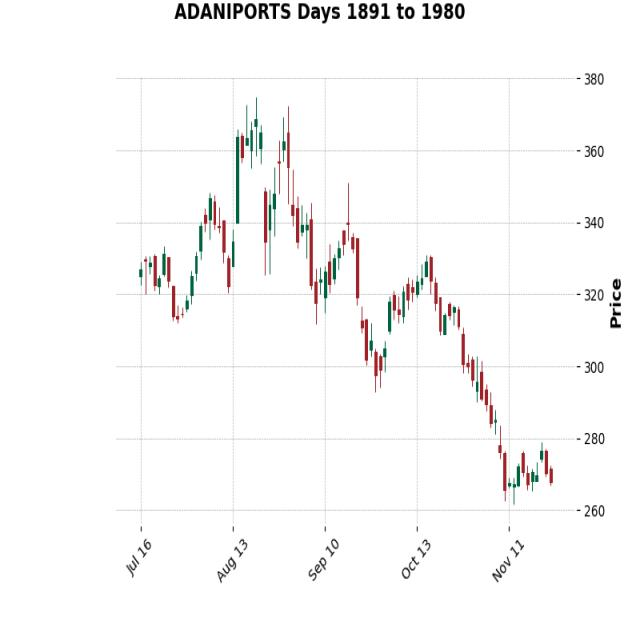Descending Triangle: (216, 87, 375, 306)
